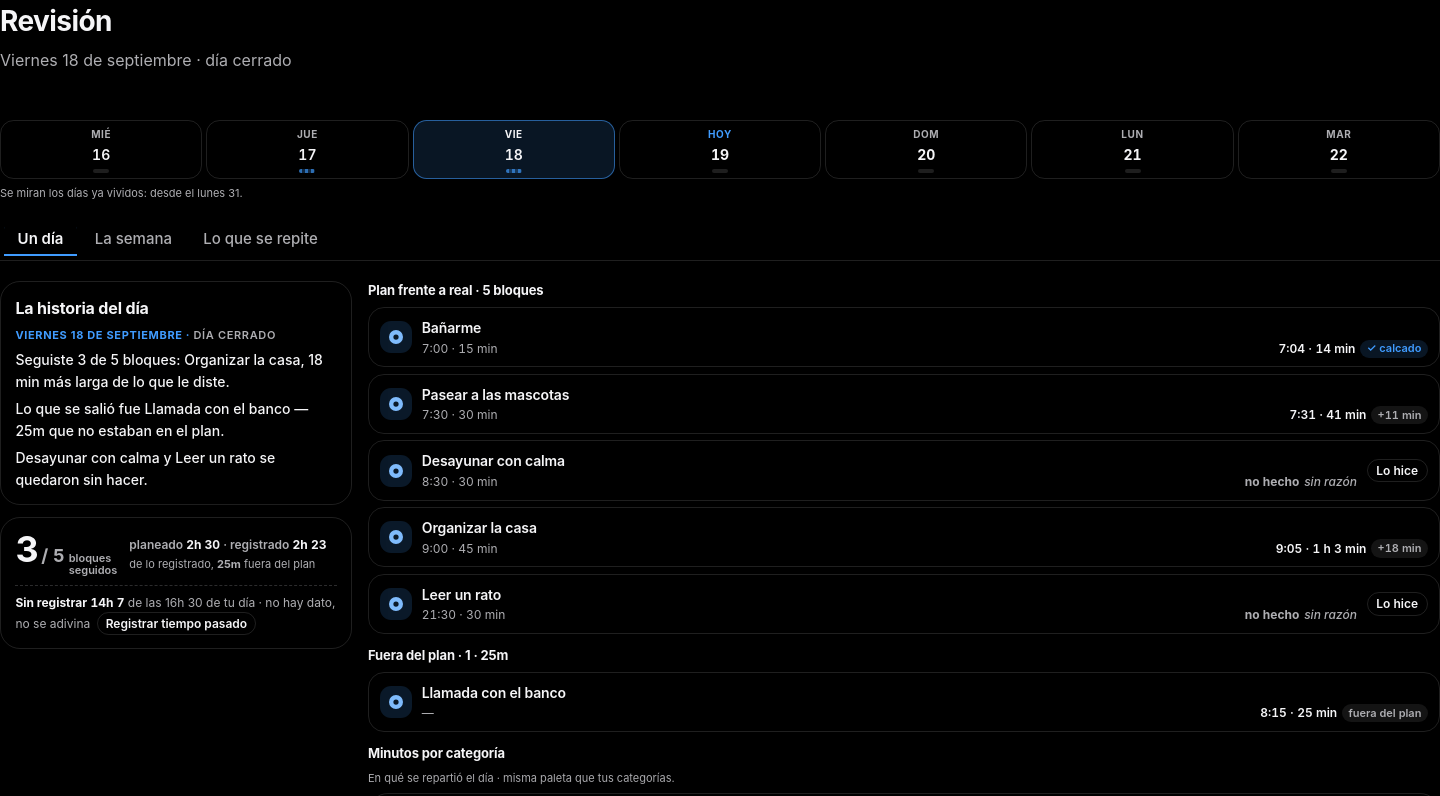
Test: la semana (criterios 45, 46, 47, 48, 49, 51 y 53) › con la semana cargada **la tira estrena el punto de tres estados** (51)
The width and height of the screenshot is (1440, 796).
expect the link "Vie 18" is shown: met, box [413,120,615,179]
Click the tab "La semana". click: (133, 239)
box: [81,221,186,256]
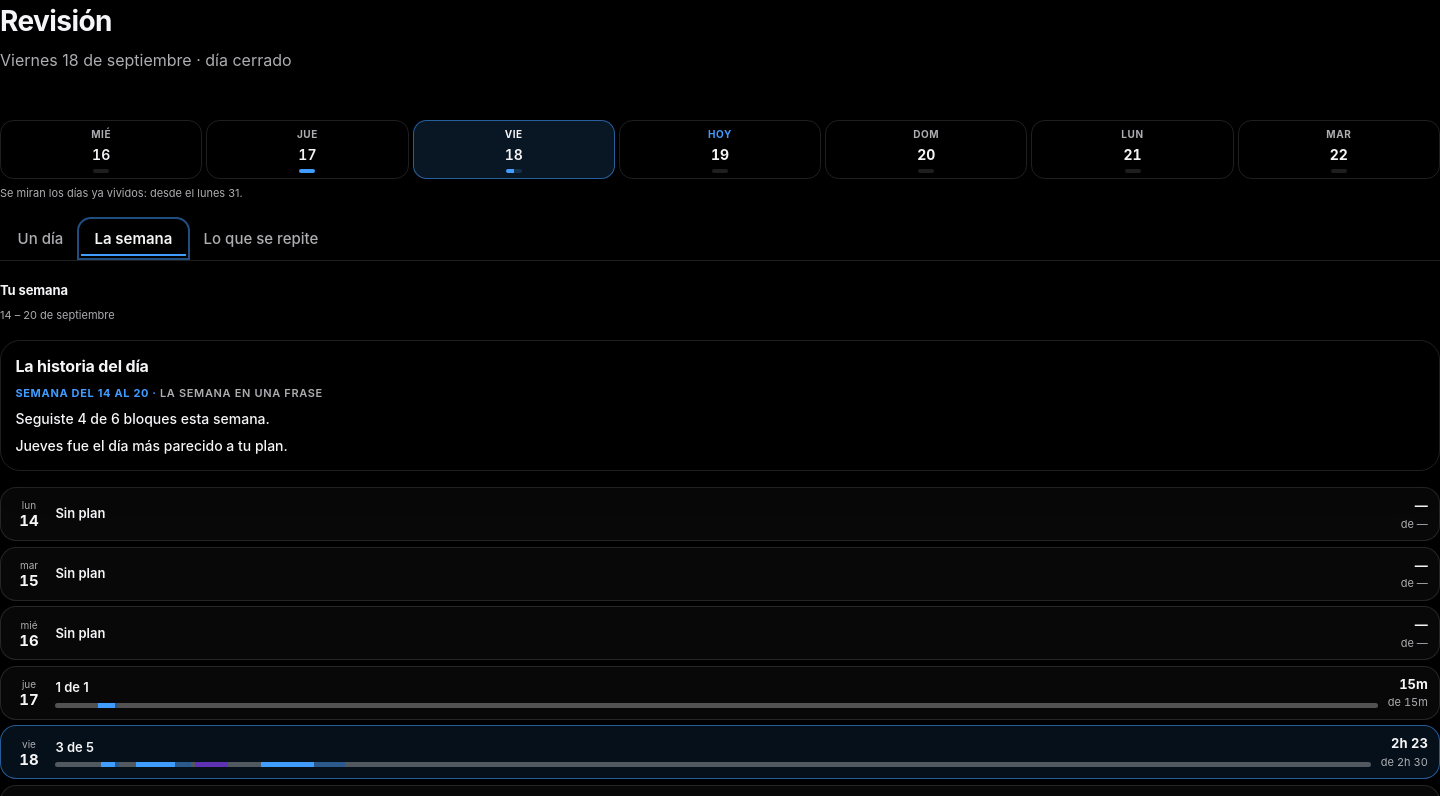
expect the link "Jue 17" is shown: met, box [206,120,409,179]
expect the link "Vie 18" is shown: met, box [413,120,615,179]
